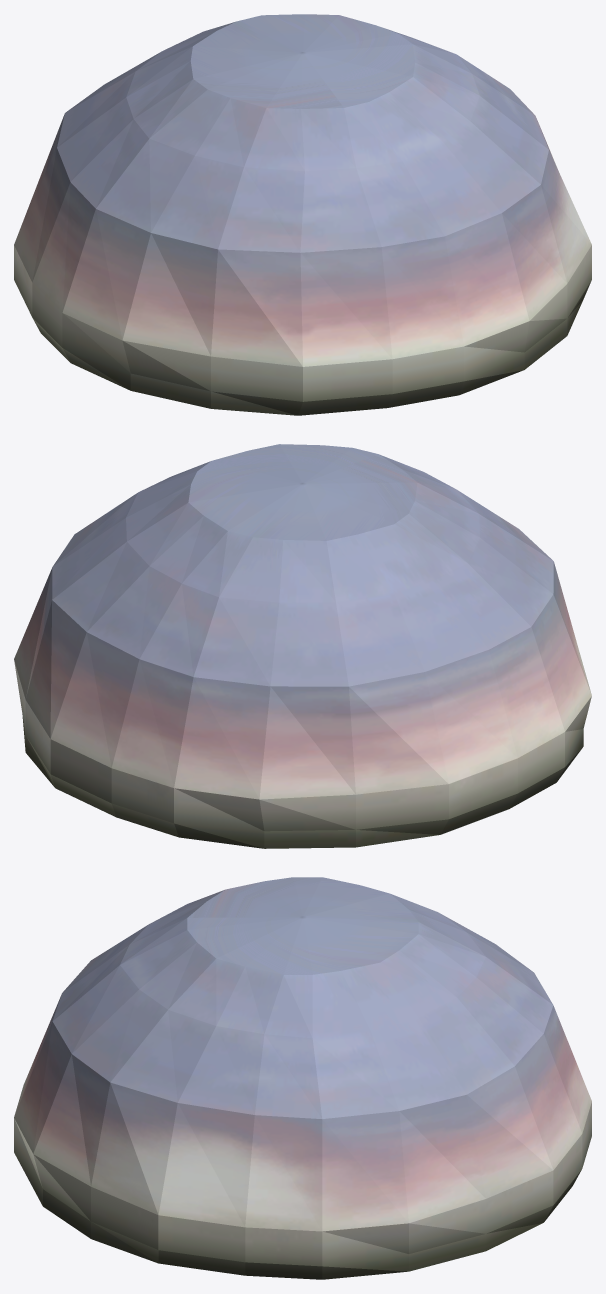
Rendered from C1M8SKYDOME.obj.
The picture shows the model from 3 angles, top to bottom: view 1: azimuth 30°, elevation 25°; view 2: azimuth 150°, elevation 25°; view 3: azimuth 270°, elevation 25°; orthographic projection.
Visible parts, largest first — view 1: Node 0; view 2: Node 0; view 3: Node 0.
Boxes of the visible parts, x1,y1,x2,y2 form: Node 0: [14, 14, 591, 415]; Node 0: [14, 444, 591, 848]; Node 0: [14, 877, 591, 1279].
Size of the model in its own units: 0.6 by 0.28 by 0.6.
Materials: 8 (8 with a texture image).
